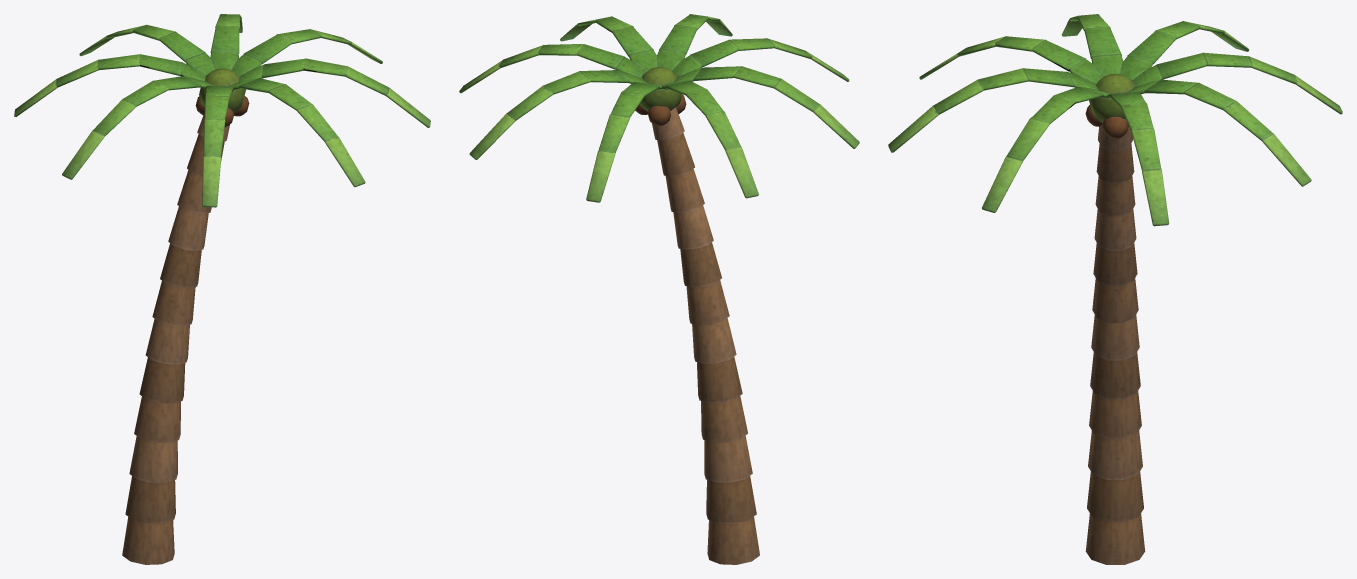
The model's file is Stage_Ocean_Palm.glb.
The picture shows the model from 3 angles, left to right: view 1: azimuth 30°, elevation 25°; view 2: azimuth 150°, elevation 25°; view 3: azimuth 270°, elevation 25°; orthographic projection. The views are drawn at different scales.
Visible parts, largest first — view 1: Stage_Ocean_Palm; view 2: Stage_Ocean_Palm; view 3: Stage_Ocean_Palm.
Boxes of the visible parts, bbox=[...] form: Stage_Ocean_Palm: bbox=[14, 14, 430, 564]; Stage_Ocean_Palm: bbox=[459, 14, 859, 564]; Stage_Ocean_Palm: bbox=[888, 14, 1342, 564].
Bounding box in the file's own units: 15.39 × 19.7 × 15.39.
Materials: 1 (1 with a texture image).
